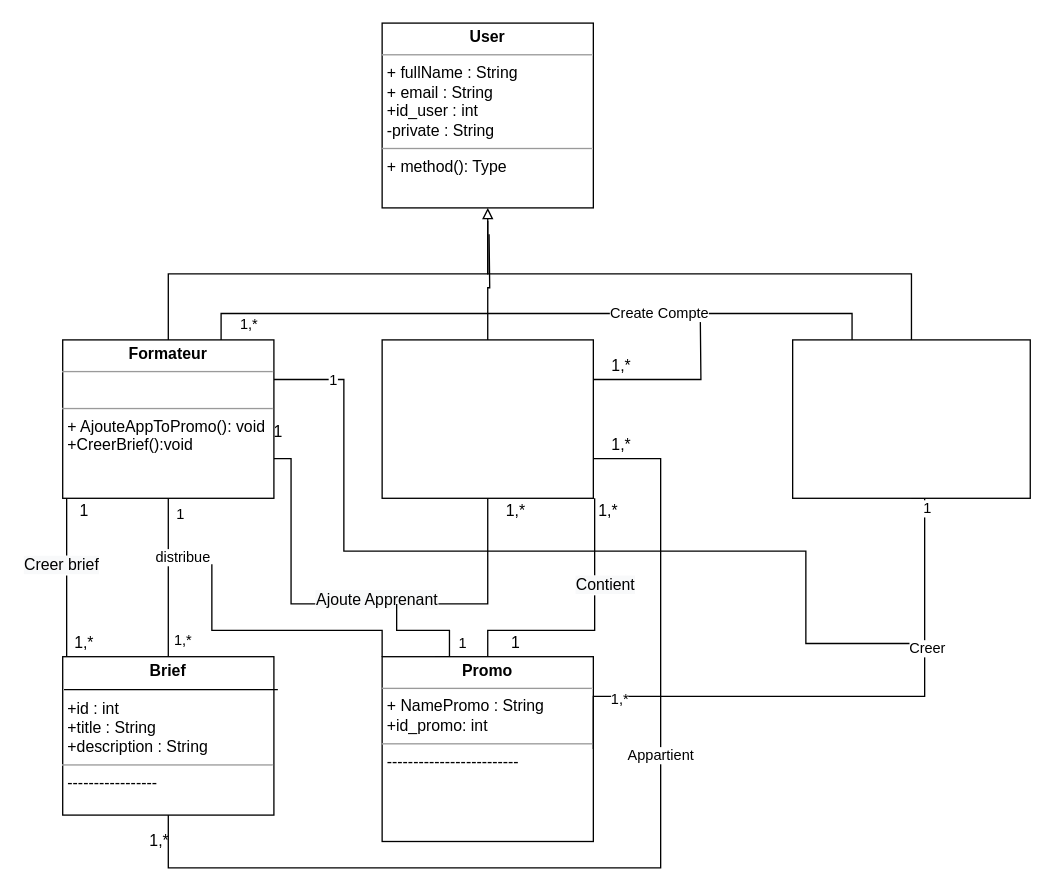
Some shapes in this 1053 by 892 pixel diagram are drawn without their labels. Here are the shapes that lost their labels. From the top down, the centre of each, then its label:
At (487,418): "Apprenant ---------------------".
At (910,418): "Admin + CreateCompte(Person): void +CreerPromo():void".
